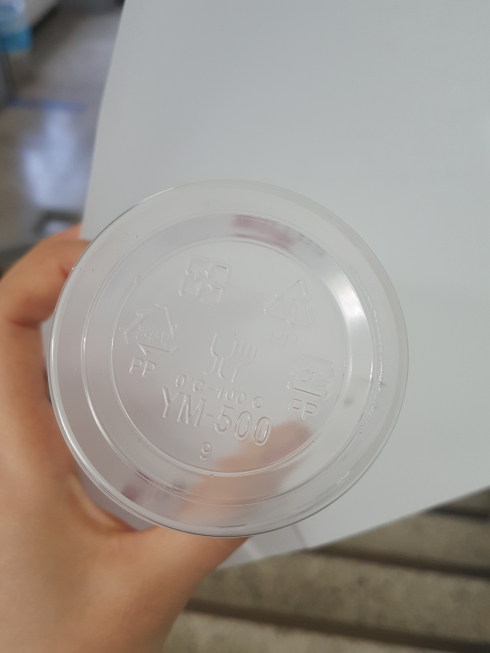recycle: (117, 294, 179, 378)
